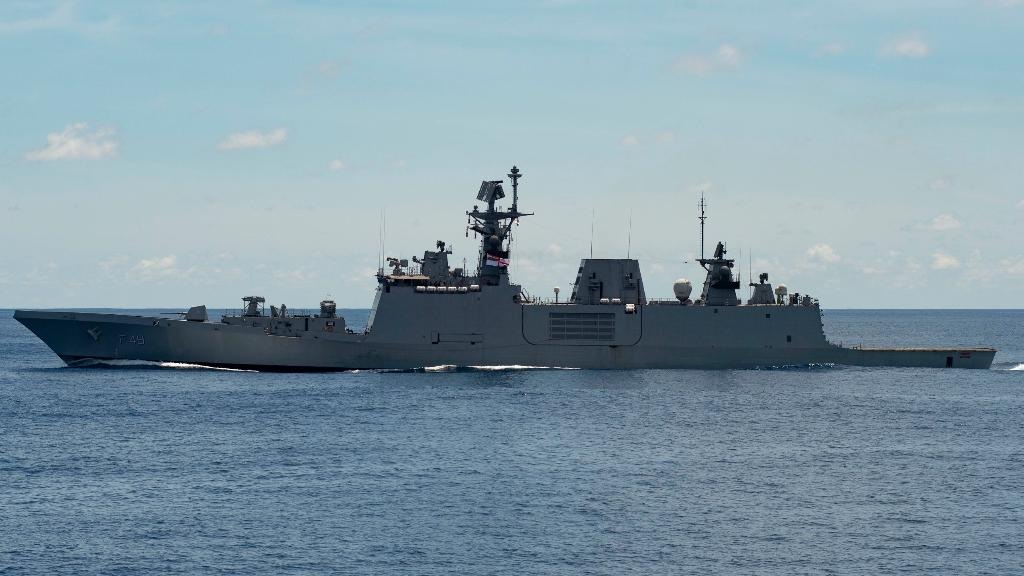Warship: (10, 168, 1012, 376)
